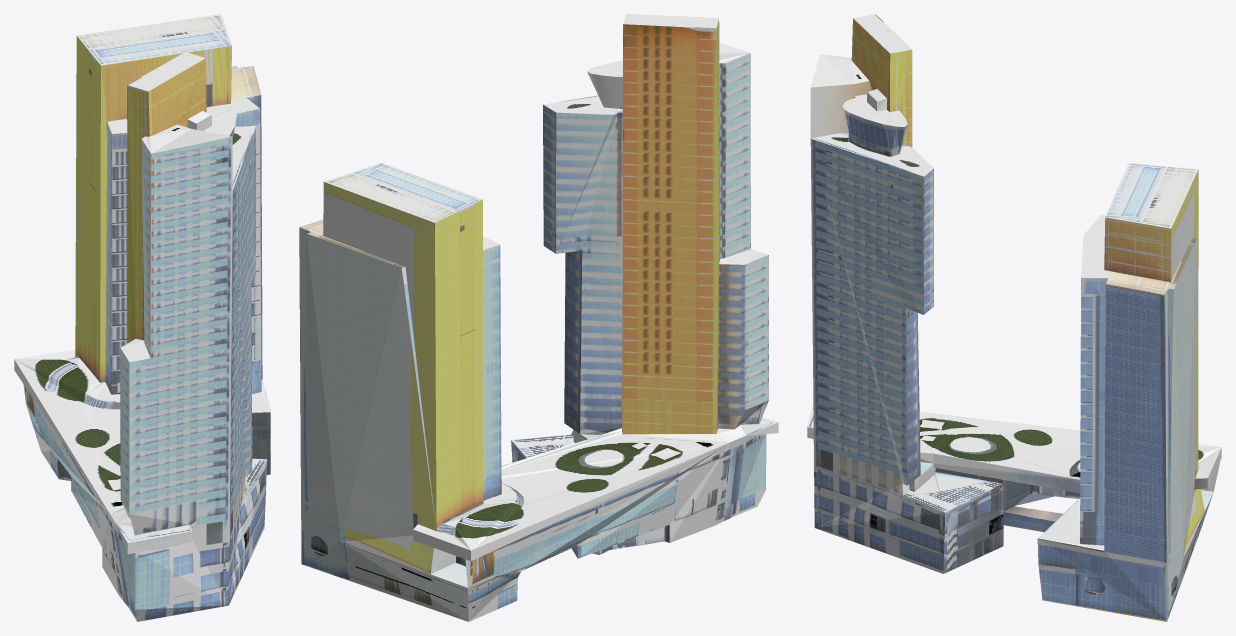
The picture shows the model from 3 angles, left to right: view 1: azimuth 30°, elevation 25°; view 2: azimuth 150°, elevation 25°; view 3: azimuth 270°, elevation 25°; orthographic projection. The views are drawn at different scales.
Parts seen in each view (by area): view 1: 505.001; view 2: 505.001; view 3: 505.001.
Part boxes in pixels (bbox=[...]): 505.001: bbox=[14, 14, 270, 621]; 505.001: bbox=[299, 14, 778, 621]; 505.001: bbox=[807, 14, 1221, 621].
Size of the model in its own units: 95.25 by 149 by 116.
1 material, 1 textured.
